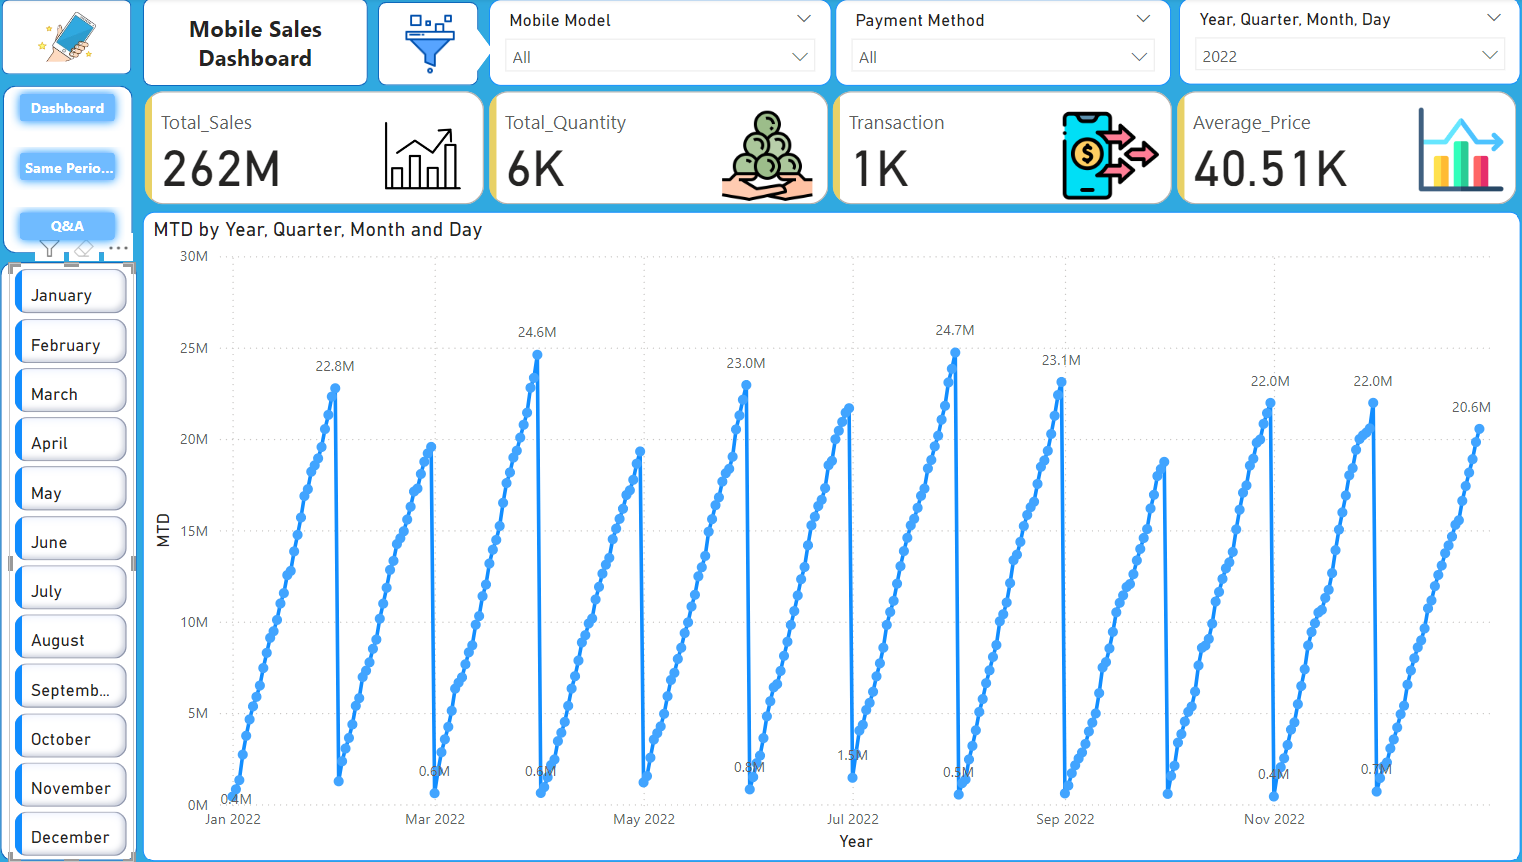

The dashboard page shown, as its layout file describes it:
{"tool":"powerbi","page":{"name":"MTD Report","canvas":[1280,720],"ordinal":1},"visuals":[{"type":"shape","box":[2.3,1.2,108.1,62.8],"z":0},{"type":"image","box":[25.6,1.2,61.6,61.6],"z":1000},{"type":"shape","box":[3.5,73.3,108.1,139.5],"z":2000},{"type":"cardVisual","fields":{"Data":["Sales_Data.Total_Sales","Sales_Data.Total_Quantity","Sales_Data.Transaction","Sales_Data.Average_Price"]},"box":[116.3,73.3,1150,104.7],"z":3000},{"type":"slicer","fields":{"Values":["Sales_Data.Mobile Model"]},"box":[407,1.2,284.9,72.1],"z":4000},{"type":"slicer","fields":{"Values":["Sales_Data.Payment Method"]},"box":[695.4,1.2,279.1,72.1],"z":5000},{"type":"slicer","fields":{"Values":["Custom_Calender.Date.Variation.Date Hierarchy.Year","Custom_Calender.Date.Variation.Date Hierarchy.Quarter","Custom_Calender.Date.Variation.Date Hierarchy.Month","Custom_Calender.Date.Variation.Date Hierarchy.Day"]},"box":[981.4,0,284.9,72.1],"z":6000},{"type":"shape","box":[315.1,3.5,83.7,69.8],"z":7000},{"type":"image","box":[327.9,8.1,60.5,60.5],"z":8000},{"type":"shape","box":[380.2,23.3,30.2,40.7],"z":9000},{"type":"shape","box":[119.8,0,187.2,73.3],"z":10000},{"type":"textbox","box":[133.7,7,158.1,60.5],"z":11000},{"type":"lineChart","fields":{"Category":["Custom_Calender.Date.Variation.Date Hierarchy.Year","Custom_Calender.Date.Variation.Date Hierarchy.Quarter","Custom_Calender.Date.Variation.Date Hierarchy.Month","Custom_Calender.Date.Variation.Date Hierarchy.Day"],"Y":["Sales_Data.MTD"]},"box":[119.8,177.9,1146.5,540.7],"z":12000},{"type":"shape","box":[1.2,219.8,114,498.8],"z":13000},{"type":"advancedSlicerVisual","fields":{"Values":["Custom_Calender.Date.Variation.Date Hierarchy.Month"]},"box":[8.4,220,103.5,498.8],"z":14000},{"type":"pageNavigator","box":[9.3,72.1,95.3,138.4],"z":15000}]}

Visuals, with their boxes on the page's 1280x720 design canvas (x1, y1, x2, y2). These are canvas units, not pixel positions in the 1522x862 screenshot, which may show the page scaled, cropped or inside an application window:
shape: box=[2, 1, 110, 64]
image: box=[26, 1, 87, 63]
shape: box=[4, 73, 112, 213]
cardVisual - Sales_Data.Total_Sales x Sales_Data.Total_Quantity: box=[116, 73, 1266, 178]
slicer - Sales_Data.Mobile Model: box=[407, 1, 692, 73]
slicer - Sales_Data.Payment Method: box=[695, 1, 974, 73]
slicer - Custom_Calender.Date.Variation.Date Hierarchy.Year x Custom_Calender.Date.Variation.Date Hierarchy.Quarter: box=[981, 0, 1266, 72]
shape: box=[315, 4, 399, 73]
image: box=[328, 8, 388, 69]
shape: box=[380, 23, 410, 64]
shape: box=[120, 0, 307, 73]
textbox: box=[134, 7, 292, 68]
lineChart - Custom_Calender.Date.Variation.Date Hierarchy.Year x Custom_Calender.Date.Variation.Date Hierarchy.Quarter: box=[120, 178, 1266, 719]
shape: box=[1, 220, 115, 719]
advancedSlicerVisual - Custom_Calender.Date.Variation.Date Hierarchy.Month: box=[8, 220, 112, 719]
pageNavigator: box=[9, 72, 105, 210]
